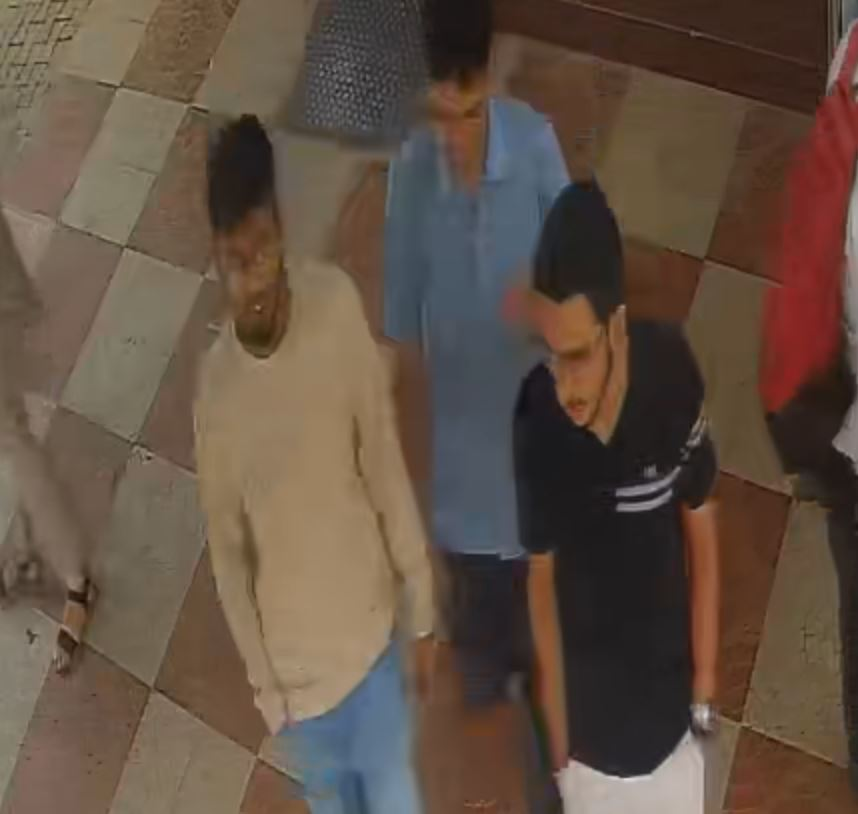intruder: (164, 111, 436, 814), (376, 15, 598, 779), (500, 171, 725, 814)
